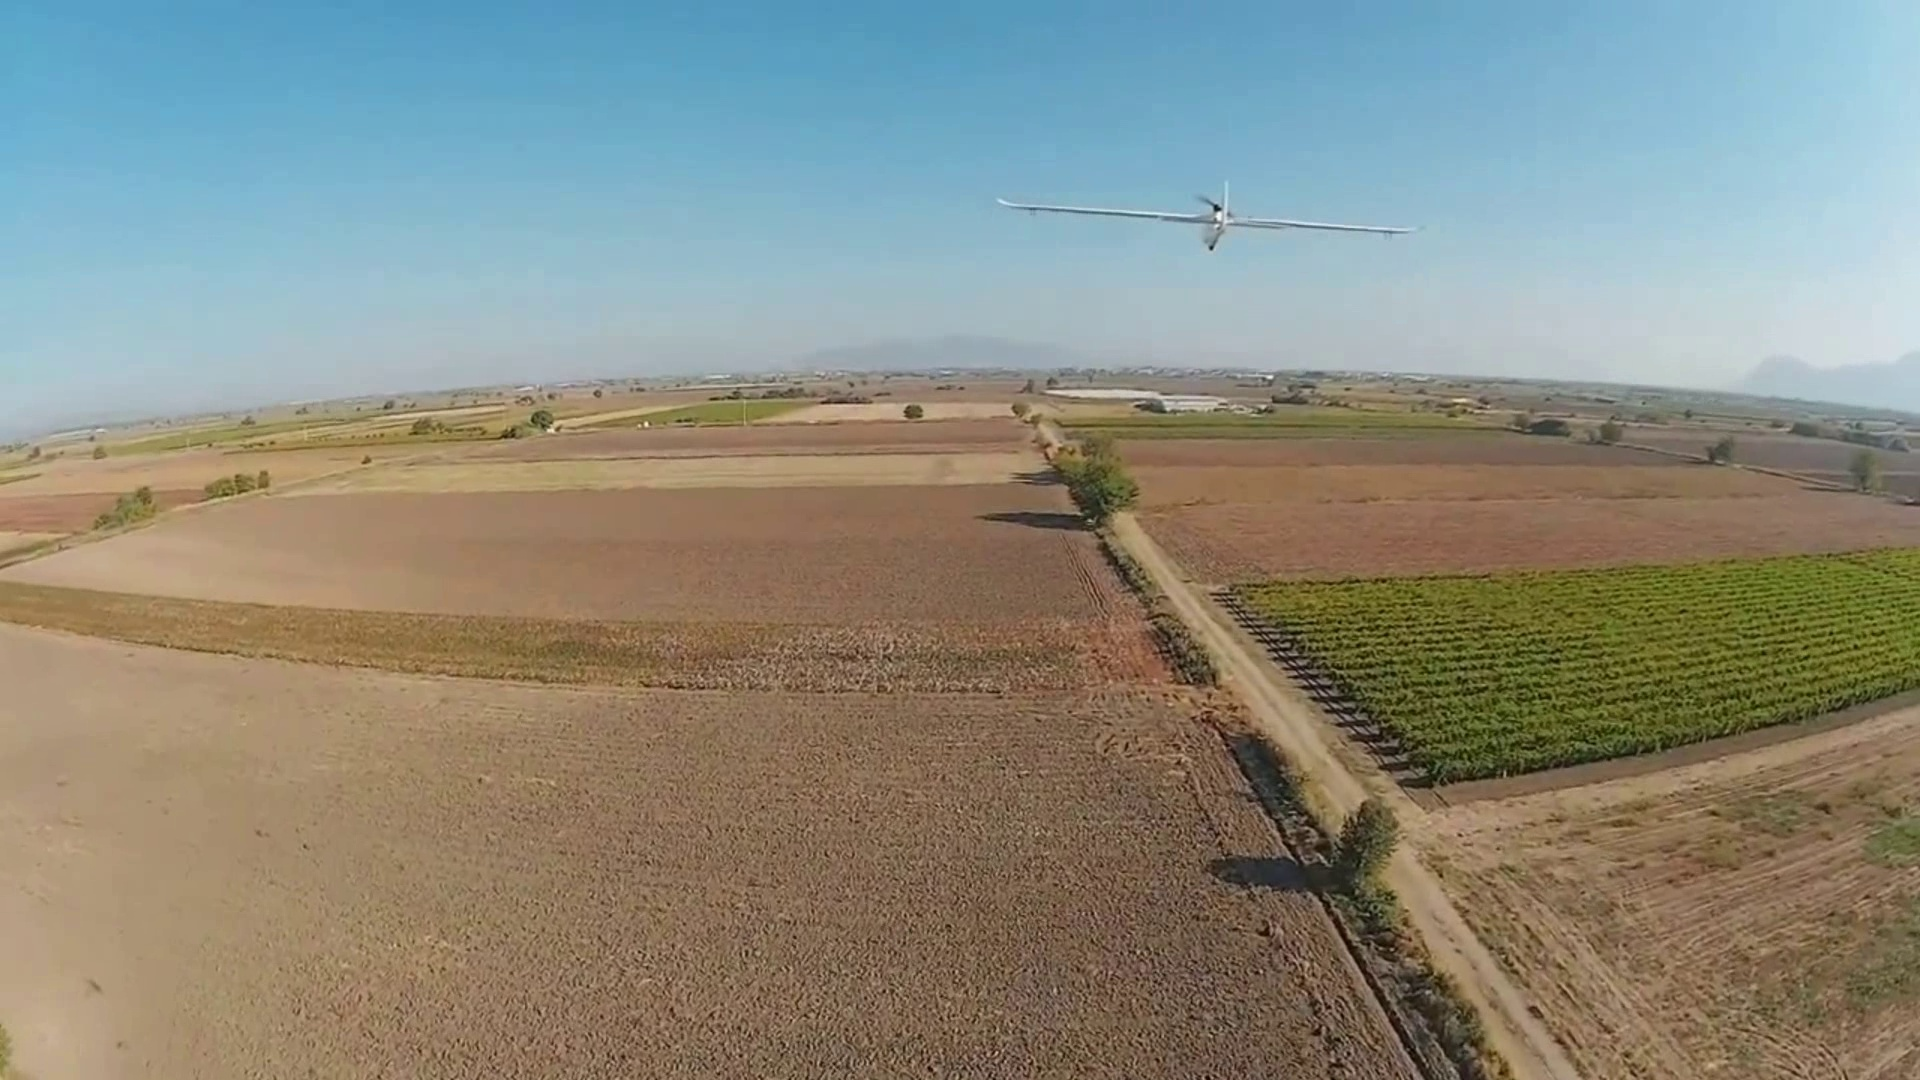airplane: (996, 185, 1416, 252)
